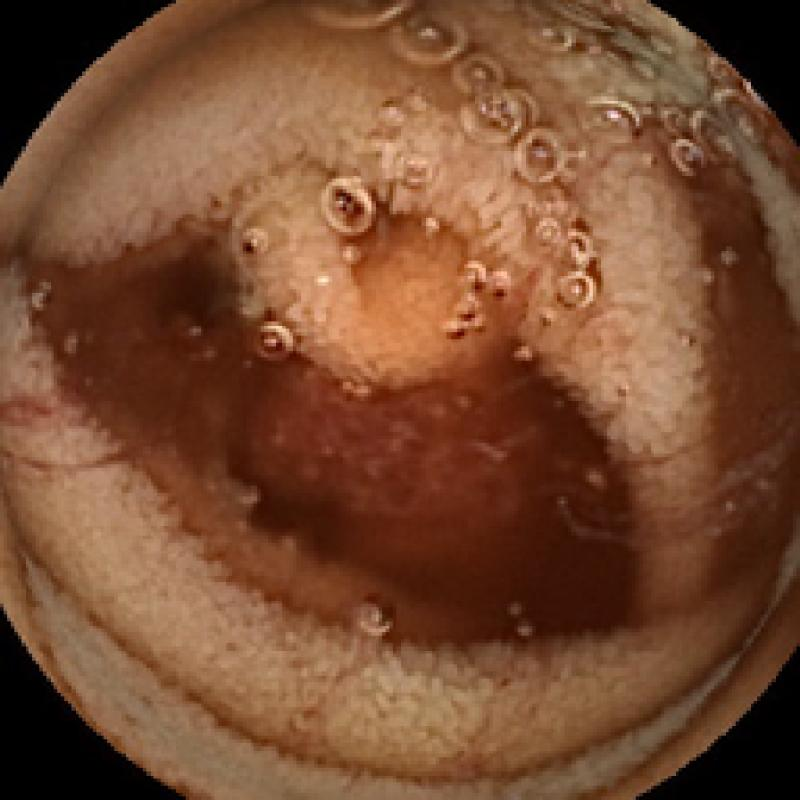bleeding: (214, 375, 532, 518), (0, 386, 143, 471)
